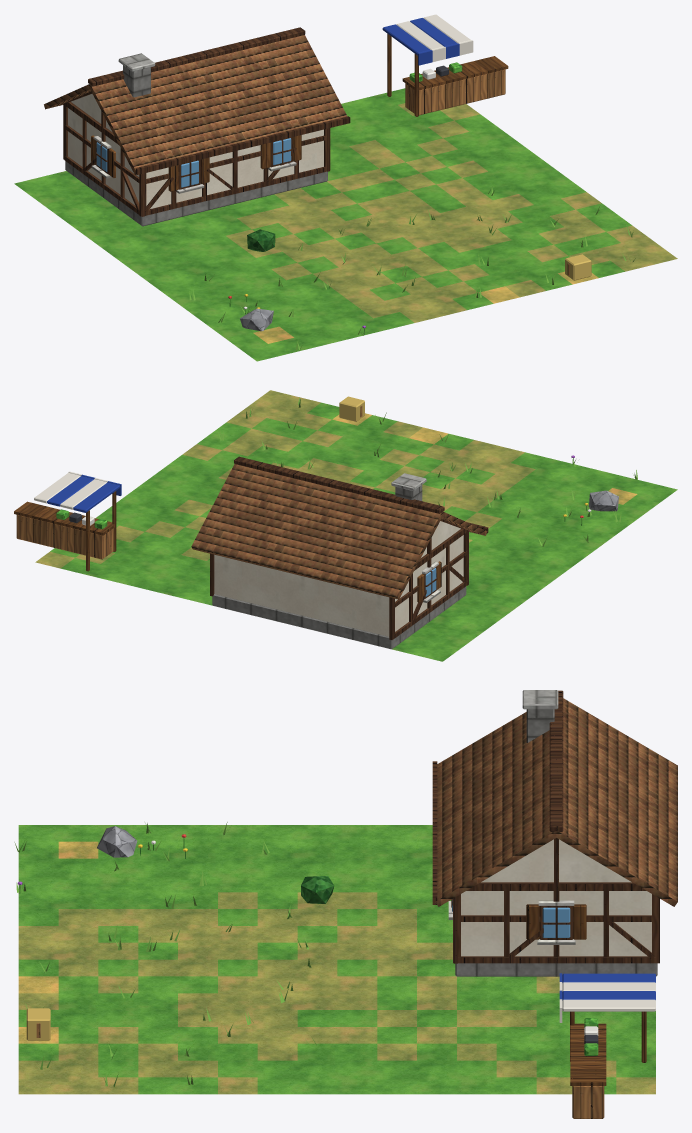
File: chunk_9_6.glb
The picture shows the model from 3 angles, top to bottom: view 1: azimuth 30°, elevation 25°; view 2: azimuth 150°, elevation 25°; view 3: azimuth 270°, elevation 25°; orthographic projection. The views are drawn at different scales.
Visible parts, largest first — view 1: chunk_9_6; view 2: chunk_9_6; view 3: chunk_9_6.
Boxes of the visible parts, x1,y1,x2,y2 form: chunk_9_6: (14,14,677,361); chunk_9_6: (14,390,677,661); chunk_9_6: (14,690,677,1118).
Bounding box in the file's own units: 17.55 × 5.23 × 16.67.
Materials: 24 (14 with a texture image).
